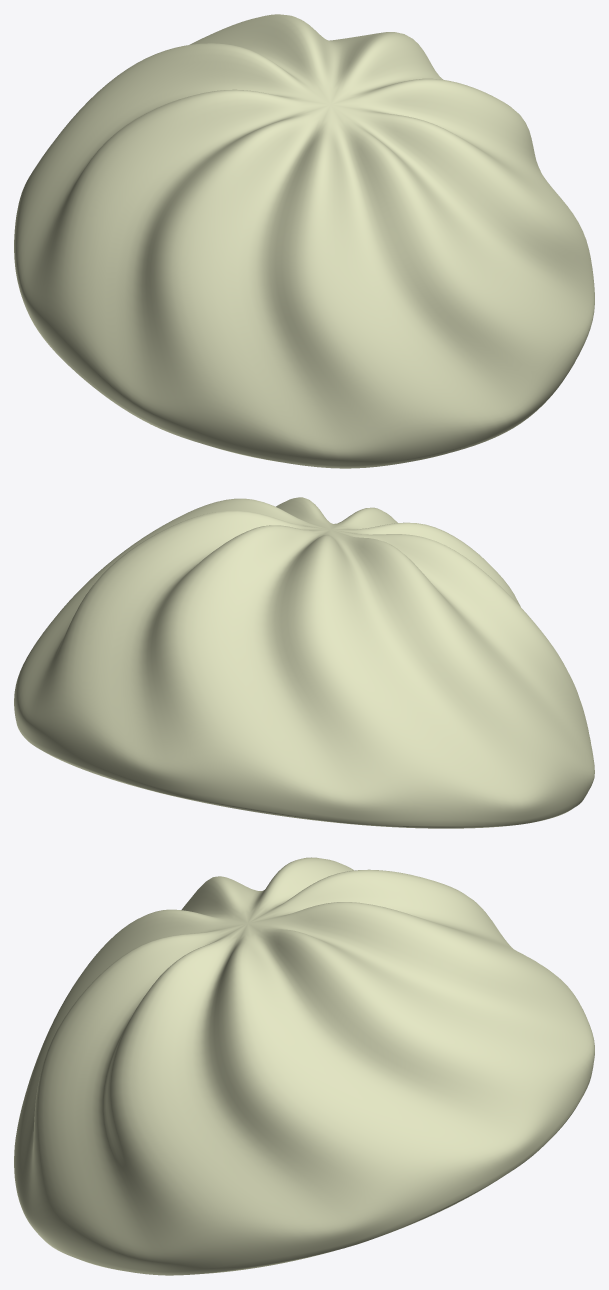
Rendered from dimsum.fbx.
3 renders of one model, top to bottom at view 1: azimuth 30°, elevation 25°; view 2: azimuth 150°, elevation 25°; view 3: azimuth 270°, elevation 25°, orthographic.
Parts seen in each view (by area): view 1: transform2; view 2: transform2; view 3: transform2.
Part boxes in pixels (bbox=[...]): transform2: bbox=[14, 14, 594, 468]; transform2: bbox=[14, 497, 594, 828]; transform2: bbox=[14, 857, 594, 1275].
Bounding box in the file's own units: 84.5 × 48.64 × 82.21.
